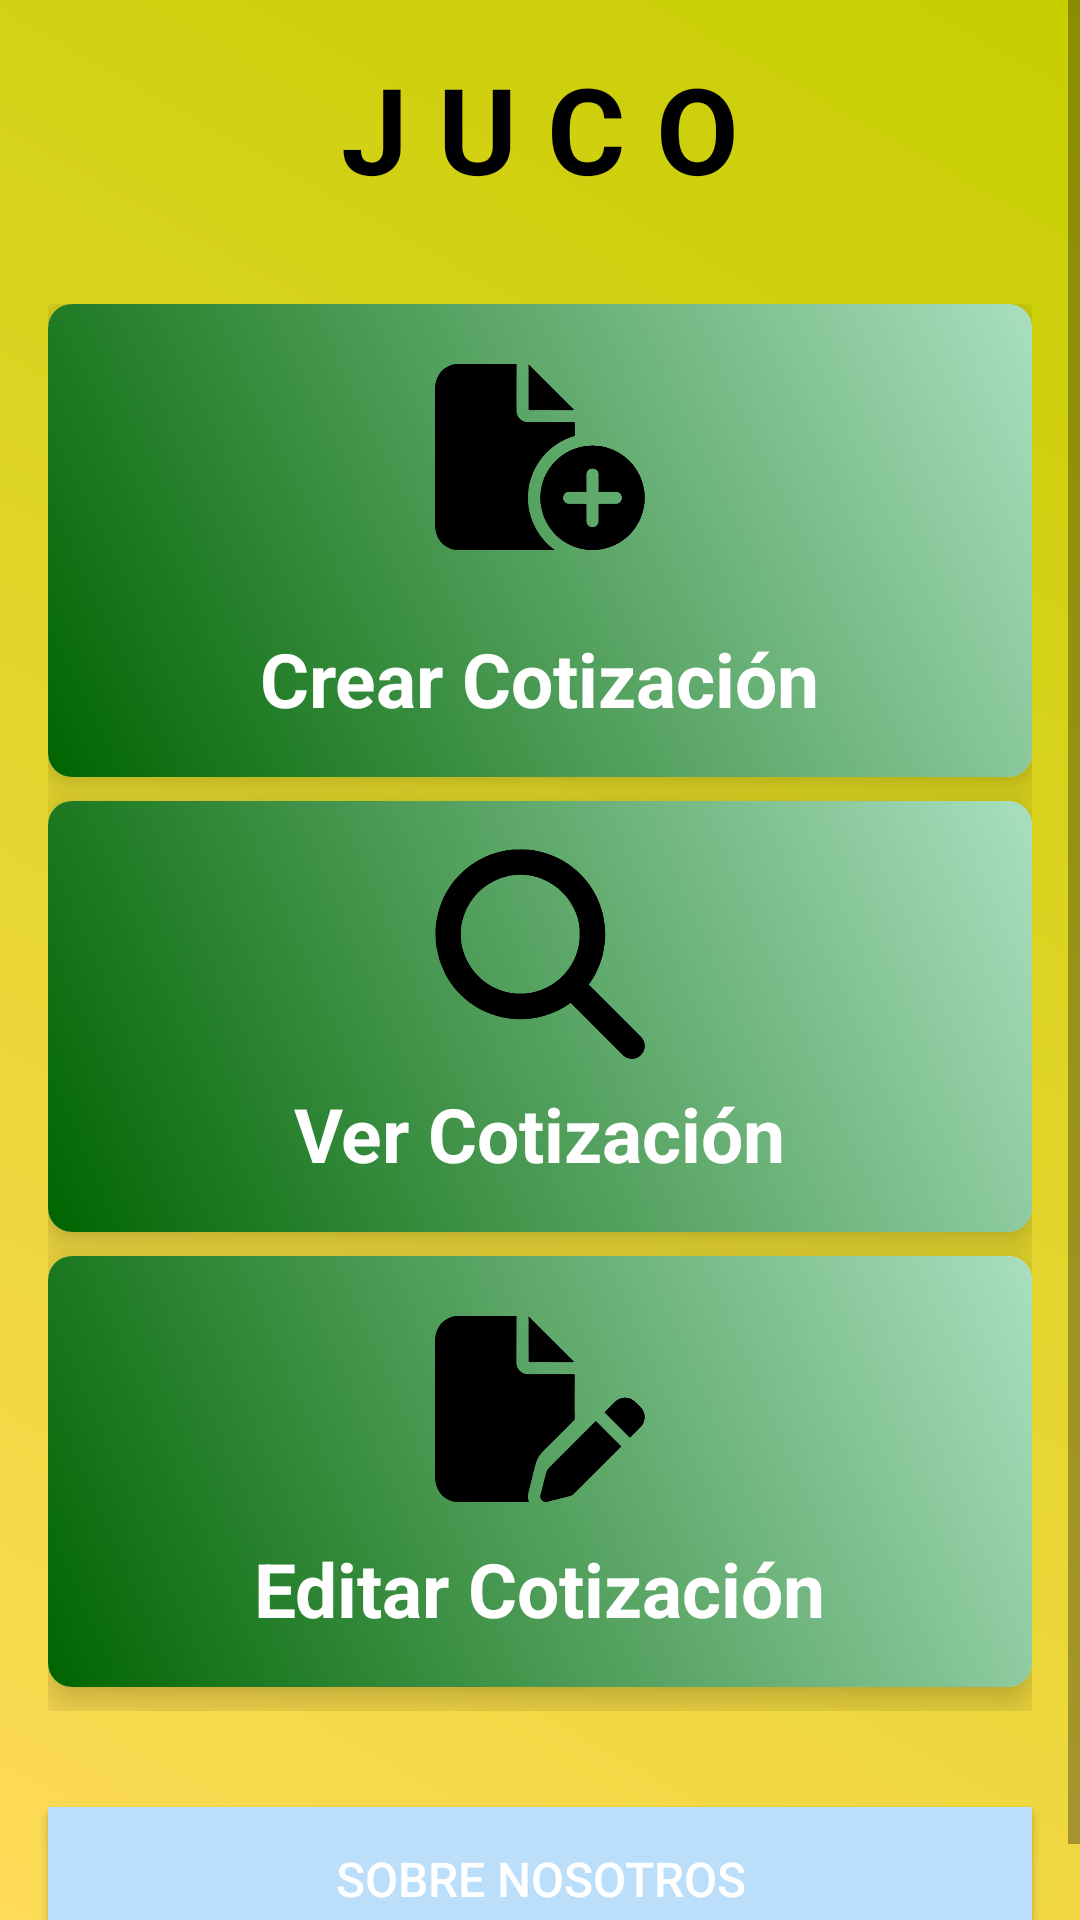

Where to tap for icons on this 1080px×1920px app screen, as [x,y]:
lupa: [540,954]
